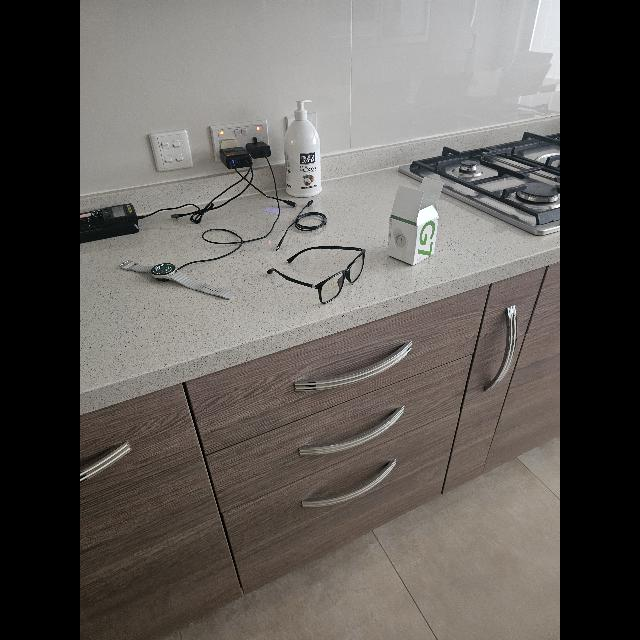glasses: (266, 246, 366, 304)
